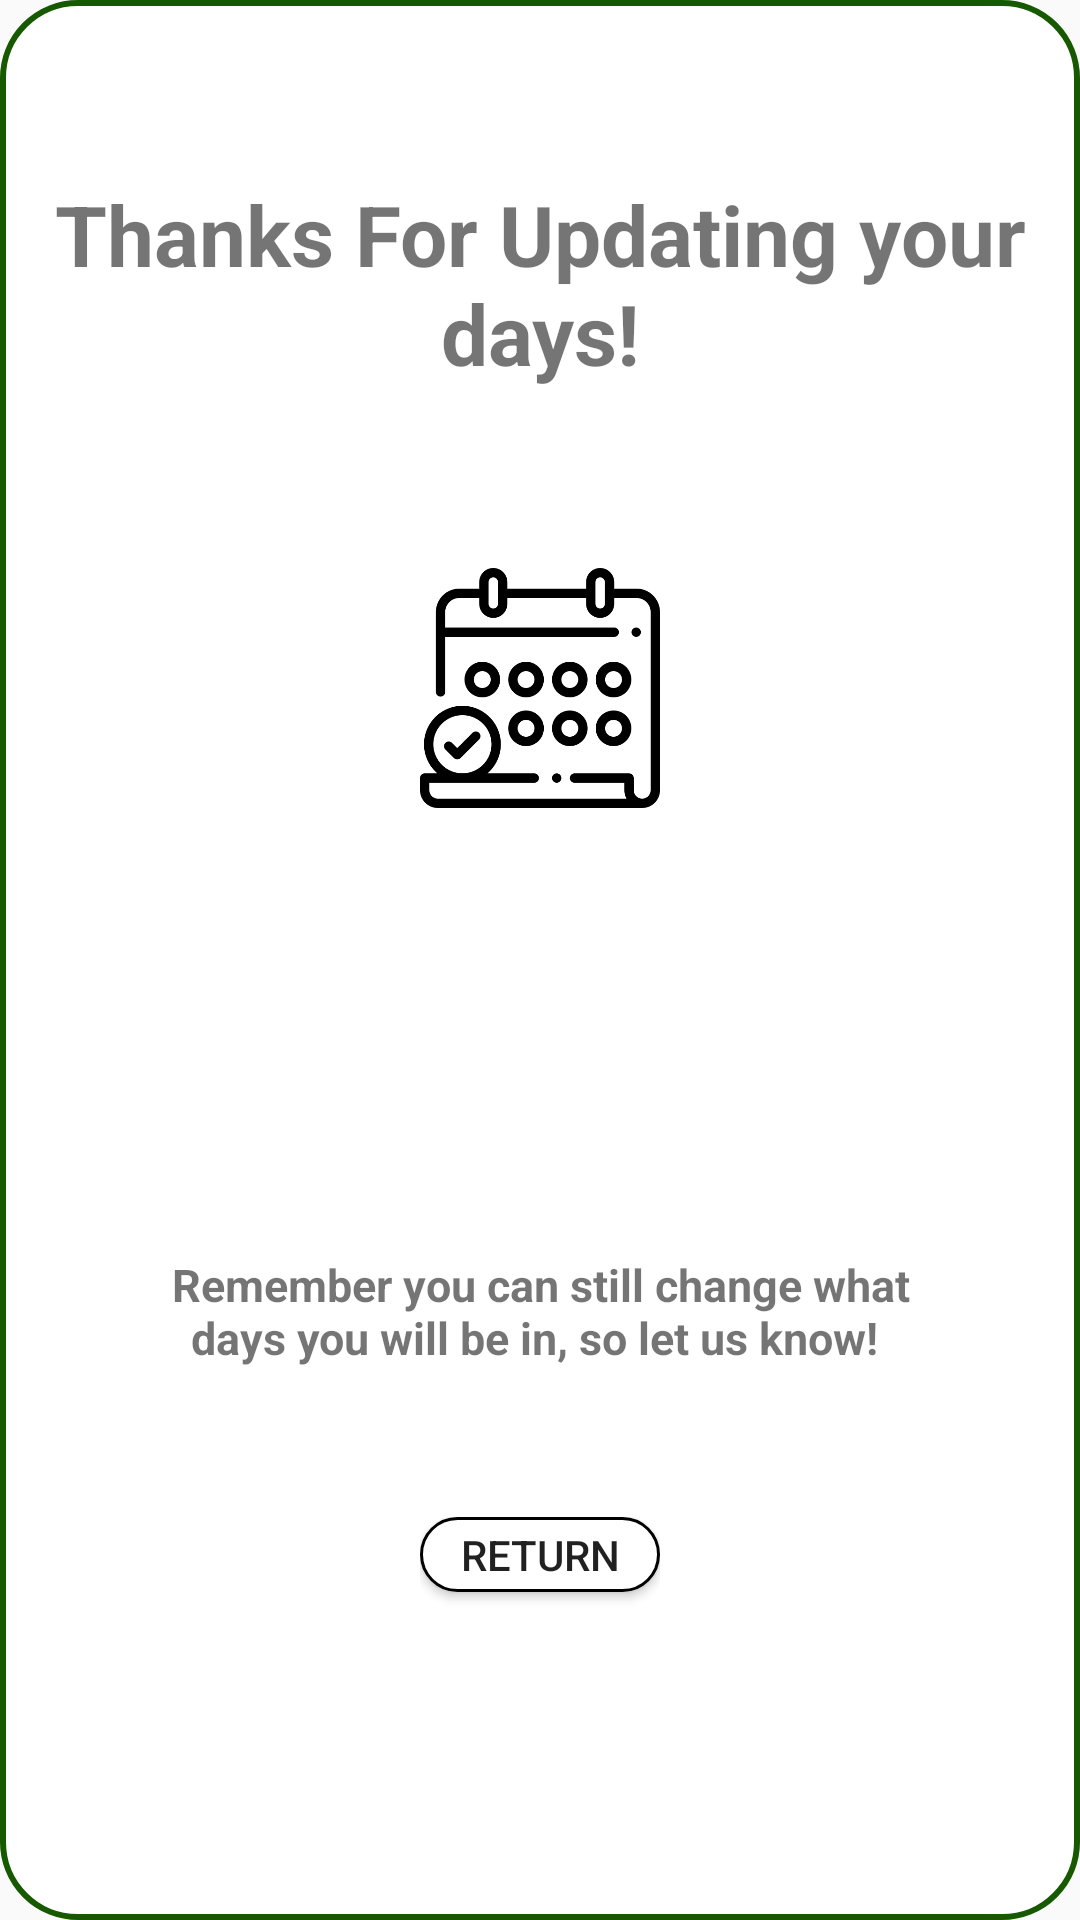

Where to tap for icons on this 1080*1920 app screen, as (x,y):
calendar: (540,688)
